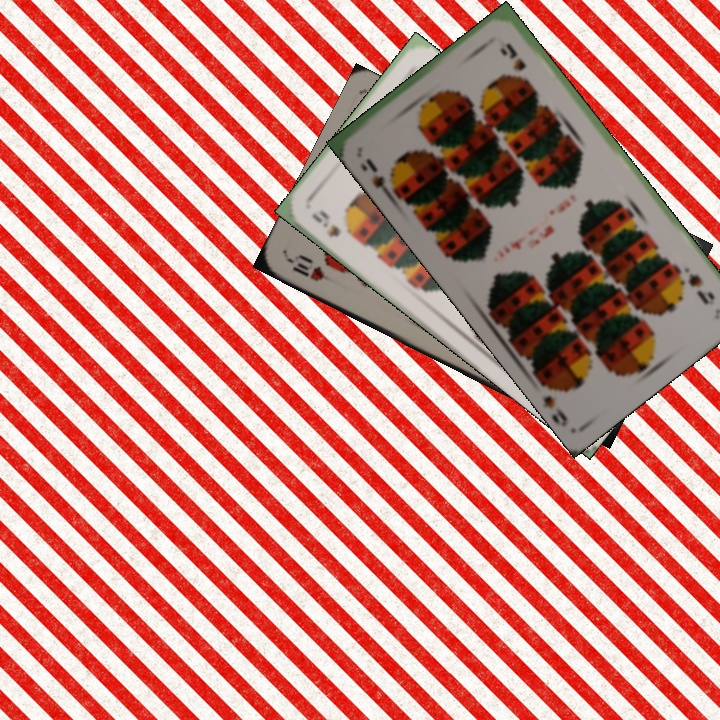H10: (284, 251, 337, 286)
S9: (356, 154, 402, 201), (684, 269, 718, 307), (307, 206, 343, 241)
